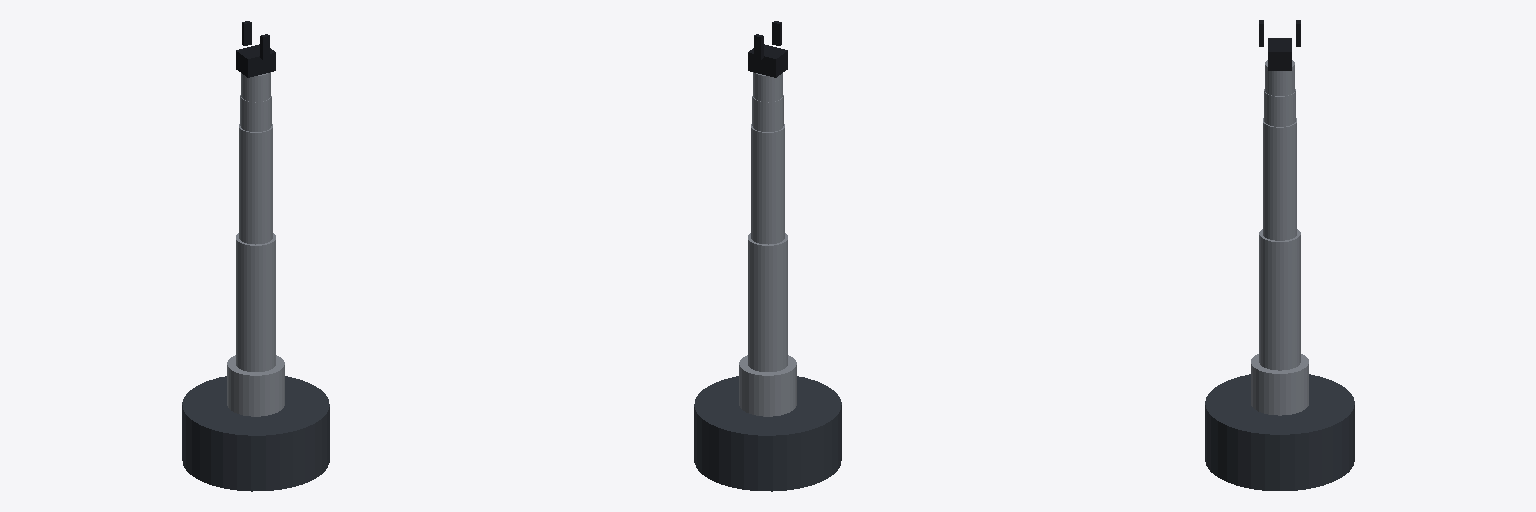
URDF robot description (arm):
<?xml version="1.0" ?>
<!-- A six-axis arm on a fixed pedestal with a two-finger parallel gripper. -->
<!-- Every link is a primitive: no meshes, no external references, no        -->
<!-- package:// paths. See ../../../meta.json (container.primitives_only)    -->
<!-- for why this tier ships primitives where T1 ships meshes.               -->
<!-- Units: metres, kilograms, radians. Z is up.                             -->
<robot name="arm">

  <!-- The pedestal. Deliberately heavy and wide (40 kg over a 0.18 m
       radius, ~70 N.m of tipping resistance against the ~35 N.m the arm
       produces at full extension) so the arm stands up on its own without
       needing a fixed-base convention that each simulator spells its own
       way. Anchoring it is allowed and is not measured. -->
  <link name="base">
    <visual>
      <origin rpy="0 0 0" xyz="0 0 0.075"/>
      <geometry><cylinder length="0.15" radius="0.18"/></geometry>
      <material name="slate"><color rgba="0.25 0.27 0.30 1"/></material>
    </visual>
    <collision>
      <origin rpy="0 0 0" xyz="0 0 0.075"/>
      <geometry><cylinder length="0.15" radius="0.18"/></geometry>
    </collision>
    <inertial>
      <origin rpy="0 0 0" xyz="0 0 0.075"/>
      <mass value="40.0"/>
      <inertia ixx="0.399" ixy="0" ixz="0" iyy="0.399" iyz="0" izz="0.648"/>
    </inertial>
  </link>

  <link name="shoulder">
    <visual>
      <origin rpy="0 0 0" xyz="0 0 0.05"/>
      <geometry><cylinder length="0.12" radius="0.07"/></geometry>
      <material name="steel"><color rgba="0.55 0.57 0.60 1"/></material>
    </visual>
    <collision>
      <origin rpy="0 0 0" xyz="0 0 0.05"/>
      <geometry><cylinder length="0.12" radius="0.07"/></geometry>
    </collision>
    <inertial>
      <origin rpy="0 0 0" xyz="0 0 0.05"/>
      <mass value="3.0"/>
      <inertia ixx="0.00728" ixy="0" ixz="0" iyy="0.00728" iyz="0"
               izz="0.00735"/>
    </inertial>
  </link>
  <joint name="joint_1" type="revolute">
    <origin rpy="0 0 0" xyz="0 0 0.15"/>
    <parent link="base"/>
    <child link="shoulder"/>
    <axis xyz="0 0 1"/>
    <limit effort="150.0" lower="-2.90" upper="2.90" velocity="2.0"/>
    <dynamics damping="0.10" friction="0.0"/>
  </joint>

  <link name="upper_arm">
    <visual>
      <origin rpy="0 0 0" xyz="0 0 0.175"/>
      <geometry><cylinder length="0.35" radius="0.05"/></geometry>
      <material name="steel"/>
    </visual>
    <collision>
      <origin rpy="0 0 0" xyz="0 0 0.175"/>
      <geometry><cylinder length="0.35" radius="0.05"/></geometry>
    </collision>
    <inertial>
      <origin rpy="0 0 0" xyz="0 0 0.175"/>
      <mass value="3.5"/>
      <inertia ixx="0.0379" ixy="0" ixz="0" iyy="0.0379" iyz="0"
               izz="0.00438"/>
    </inertial>
  </link>
  <joint name="joint_2" type="revolute">
    <origin rpy="0 0 0" xyz="0 0 0.10"/>
    <parent link="shoulder"/>
    <child link="upper_arm"/>
    <axis xyz="0 1 0"/>
    <limit effort="150.0" lower="-2.20" upper="2.20" velocity="2.0"/>
    <dynamics damping="0.10" friction="0.0"/>
  </joint>

  <link name="forearm">
    <visual>
      <origin rpy="0 0 0" xyz="0 0 0.15"/>
      <geometry><cylinder length="0.30" radius="0.042"/></geometry>
      <material name="steel"/>
    </visual>
    <collision>
      <origin rpy="0 0 0" xyz="0 0 0.15"/>
      <geometry><cylinder length="0.30" radius="0.042"/></geometry>
    </collision>
    <inertial>
      <origin rpy="0 0 0" xyz="0 0 0.15"/>
      <mass value="2.2"/>
      <inertia ixx="0.01747" ixy="0" ixz="0" iyy="0.01747" iyz="0"
               izz="0.00194"/>
    </inertial>
  </link>
  <joint name="joint_3" type="revolute">
    <origin rpy="0 0 0" xyz="0 0 0.35"/>
    <parent link="upper_arm"/>
    <child link="forearm"/>
    <axis xyz="0 1 0"/>
    <limit effort="90.0" lower="-2.60" upper="2.60" velocity="2.5"/>
    <dynamics damping="0.08" friction="0.0"/>
  </joint>

  <link name="wrist_1">
    <visual>
      <origin rpy="0 0 0" xyz="0 0 0.04"/>
      <geometry><cylinder length="0.08" radius="0.038"/></geometry>
      <material name="steel"/>
    </visual>
    <collision>
      <origin rpy="0 0 0" xyz="0 0 0.04"/>
      <geometry><cylinder length="0.08" radius="0.038"/></geometry>
    </collision>
    <inertial>
      <origin rpy="0 0 0" xyz="0 0 0.04"/>
      <mass value="0.8"/>
      <inertia ixx="0.000715" ixy="0" ixz="0" iyy="0.000715" iyz="0"
               izz="0.000578"/>
    </inertial>
  </link>
  <joint name="joint_4" type="revolute">
    <origin rpy="0 0 0" xyz="0 0 0.30"/>
    <parent link="forearm"/>
    <child link="wrist_1"/>
    <axis xyz="0 0 1"/>
    <limit effort="30.0" lower="-2.90" upper="2.90" velocity="3.0"/>
    <dynamics damping="0.05" friction="0.0"/>
  </joint>

  <link name="wrist_2">
    <visual>
      <origin rpy="0 0 0" xyz="0 0 0.035"/>
      <geometry><cylinder length="0.07" radius="0.036"/></geometry>
      <material name="steel"/>
    </visual>
    <collision>
      <origin rpy="0 0 0" xyz="0 0 0.035"/>
      <geometry><cylinder length="0.07" radius="0.036"/></geometry>
    </collision>
    <inertial>
      <origin rpy="0 0 0" xyz="0 0 0.035"/>
      <mass value="0.6"/>
      <inertia ixx="0.000439" ixy="0" ixz="0" iyy="0.000439" iyz="0"
               izz="0.000389"/>
    </inertial>
  </link>
  <joint name="joint_5" type="revolute">
    <origin rpy="0 0 0" xyz="0 0 0.08"/>
    <parent link="wrist_1"/>
    <child link="wrist_2"/>
    <axis xyz="0 1 0"/>
    <limit effort="30.0" lower="-2.00" upper="2.00" velocity="3.0"/>
    <dynamics damping="0.05" friction="0.0"/>
  </joint>

  <!-- The palm. Its own frame is the end effector: the grader measures the
       object's position in THIS link's frame. -->
  <link name="tool">
    <visual>
      <origin rpy="0 0 0" xyz="0 0 0.025"/>
      <geometry><box size="0.08 0.06 0.05"/></geometry>
      <material name="graphite"><color rgba="0.15 0.16 0.18 1"/></material>
    </visual>
    <collision>
      <origin rpy="0 0 0" xyz="0 0 0.025"/>
      <geometry><box size="0.08 0.06 0.05"/></geometry>
    </collision>
    <inertial>
      <origin rpy="0 0 0" xyz="0 0 0.025"/>
      <mass value="0.5"/>
      <inertia ixx="0.000254" ixy="0" ixz="0" iyy="0.000371" iyz="0"
               izz="0.000417"/>
    </inertial>
  </link>
  <joint name="joint_6" type="revolute">
    <origin rpy="0 0 0" xyz="0 0 0.07"/>
    <parent link="wrist_2"/>
    <child link="tool"/>
    <axis xyz="0 0 1"/>
    <limit effort="20.0" lower="-3.00" upper="3.00" velocity="3.0"/>
    <dynamics damping="0.03" friction="0.0"/>
  </joint>

  <!-- Two fingers, each travelling 0 (open) to 0.035 (closed) toward the
       centre line. Inner faces are 0.078 m apart open and 0.008 m apart
       closed. -->
  <link name="finger_left">
    <visual>
      <origin rpy="0 0 0" xyz="0 0 0.03"/>
      <geometry><box size="0.020 0.012 0.060"/></geometry>
      <material name="graphite"/>
    </visual>
    <collision>
      <origin rpy="0 0 0" xyz="0 0 0.03"/>
      <geometry><box size="0.020 0.012 0.060"/></geometry>
    </collision>
    <inertial>
      <origin rpy="0 0 0" xyz="0 0 0.03"/>
      <mass value="0.05"/>
      <inertia ixx="1.67e-05" ixy="0" ixz="0" iyy="1.59e-05" iyz="0"
               izz="2.60e-06"/>
    </inertial>
  </link>
  <joint name="finger_joint_left" type="prismatic">
    <origin rpy="0 0 0" xyz="0 0.045 0.05"/>
    <parent link="tool"/>
    <child link="finger_left"/>
    <axis xyz="0 -1 0"/>
    <limit effort="80.0" lower="0.0" upper="0.035" velocity="0.10"/>
    <dynamics damping="1.0" friction="0.0"/>
  </joint>

  <link name="finger_right">
    <visual>
      <origin rpy="0 0 0" xyz="0 0 0.03"/>
      <geometry><box size="0.020 0.012 0.060"/></geometry>
      <material name="graphite"/>
    </visual>
    <collision>
      <origin rpy="0 0 0" xyz="0 0 0.03"/>
      <geometry><box size="0.020 0.012 0.060"/></geometry>
    </collision>
    <inertial>
      <origin rpy="0 0 0" xyz="0 0 0.03"/>
      <mass value="0.05"/>
      <inertia ixx="1.67e-05" ixy="0" ixz="0" iyy="1.59e-05" iyz="0"
               izz="2.60e-06"/>
    </inertial>
  </link>
  <joint name="finger_joint_right" type="prismatic">
    <origin rpy="0 0 0" xyz="0 -0.045 0.05"/>
    <parent link="tool"/>
    <child link="finger_right"/>
    <axis xyz="0 1 0"/>
    <limit effort="80.0" lower="0.0" upper="0.035" velocity="0.10"/>
    <dynamics damping="1.0" friction="0.0"/>
  </joint>

</robot>

--- What the picture shows (computed from the rendered views, not written in the file) ---
Views: 3 orthographic renders of the robot side by side, from view 1: azimuth 30°, elevation 25°; view 2: azimuth 150°, elevation 25°; view 3: azimuth 270°, elevation 25°.
Model arm with 9 links and 8 joints (6 revolute, 2 prismatic), rooted at base, posed every joint at zero.
Links seen in each view (by area): view 1: base, upper_arm, forearm, shoulder, wrist_1, tool, wrist_2; view 2: base, upper_arm, forearm, shoulder, wrist_1, tool, wrist_2; view 3: base, upper_arm, forearm, shoulder, wrist_1, tool, wrist_2.
Link boxes in pixels (left/top/right/bottom): base: left=182, top=376, right=329, bottom=491; upper_arm: left=236, top=233, right=275, bottom=371; forearm: left=239, top=124, right=272, bottom=244; shoulder: left=227, top=355, right=284, bottom=416; wrist_1: left=240, top=95, right=271, bottom=131; tool: left=236, top=44, right=275, bottom=77; wrist_2: left=241, top=72, right=270, bottom=101; base: left=694, top=376, right=841, bottom=491; upper_arm: left=748, top=233, right=787, bottom=371; forearm: left=751, top=124, right=784, bottom=244; shoulder: left=739, top=355, right=796, bottom=416; wrist_1: left=752, top=95, right=783, bottom=131; tool: left=748, top=44, right=787, bottom=77; wrist_2: left=753, top=72, right=782, bottom=101; base: left=1205, top=374, right=1354, bottom=490; upper_arm: left=1259, top=229, right=1300, bottom=370; forearm: left=1263, top=118, right=1296, bottom=240; shoulder: left=1251, top=354, right=1308, bottom=415; wrist_1: left=1264, top=89, right=1295, bottom=126; tool: left=1268, top=38, right=1291, bottom=70; wrist_2: left=1265, top=60, right=1294, bottom=95.
Size in the robot's own frame: 0.36 by 0.36 by 1.16 metres.
Geometry: primitives only (box / cylinder / sphere), no mesh files.
